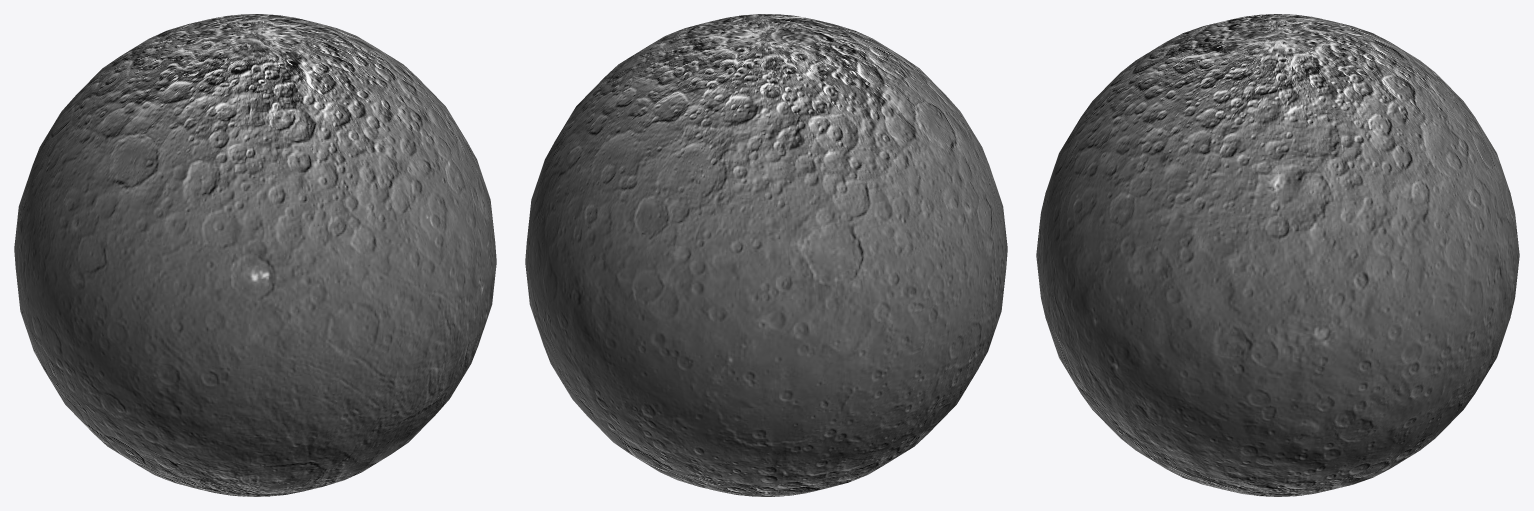
File: ilum.glb
3 renders of one model, left to right at view 1: azimuth 30°, elevation 25°; view 2: azimuth 150°, elevation 25°; view 3: azimuth 270°, elevation 25°, orthographic.
Visible parts, largest first — view 1: Object_3.003; view 2: Object_3.003; view 3: Object_3.003.
Part boxes in pixels (x1=…): Object_3.003: x1=14, y1=14, x2=496, y2=496; Object_3.003: x1=525, y1=14, x2=1007, y2=496; Object_3.003: x1=1036, y1=14, x2=1519, y2=496.
Size of the model in its own units: 2 by 2 by 2.
Materials: 2 (2 with a texture image).
